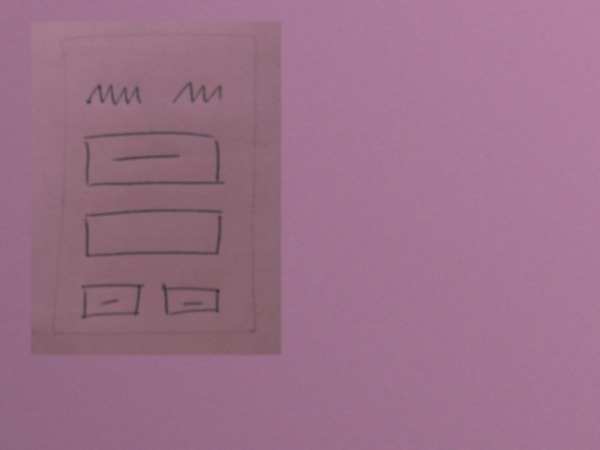button: (76, 130, 234, 195), (157, 279, 225, 320), (77, 281, 145, 320)
switch: (167, 75, 228, 110)
text: (83, 80, 148, 112)
text_input: (77, 206, 230, 264)
